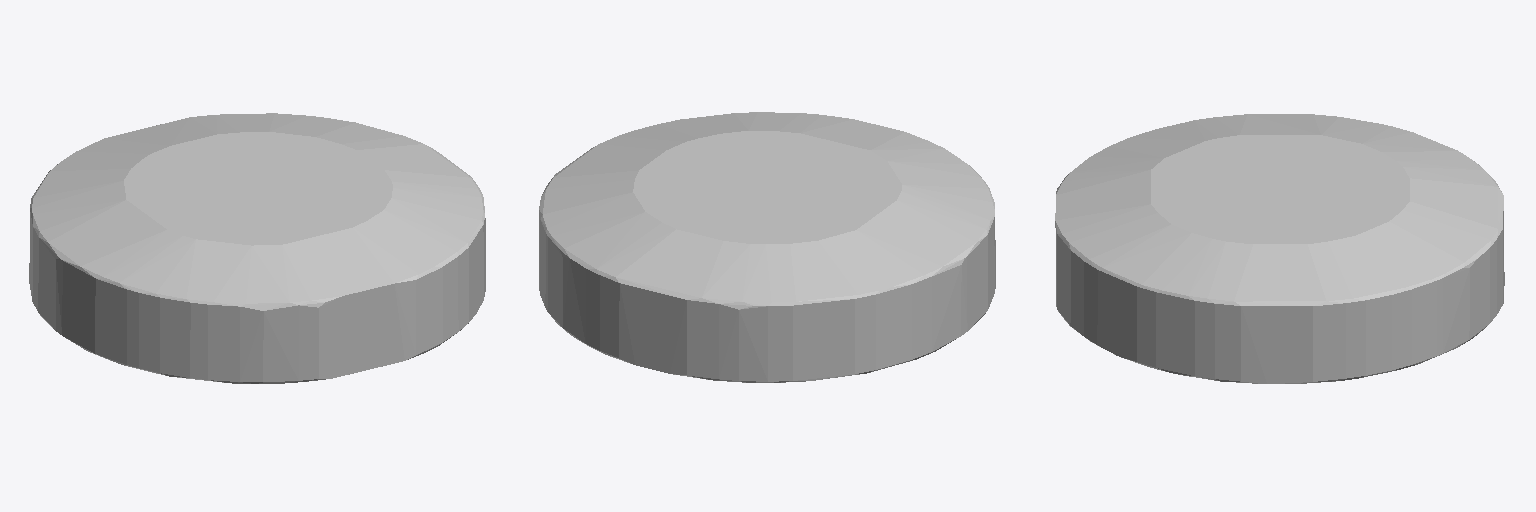
Rendered from solo12_hip_fe_collision_3.obj.
The picture shows the model from 3 angles: view 1: azimuth 30°, elevation 25°; view 2: azimuth 150°, elevation 25°; view 3: azimuth 270°, elevation 25°; orthographic projection.
Size of the model in its own units: 0.0446 by 0.0146 by 0.044.